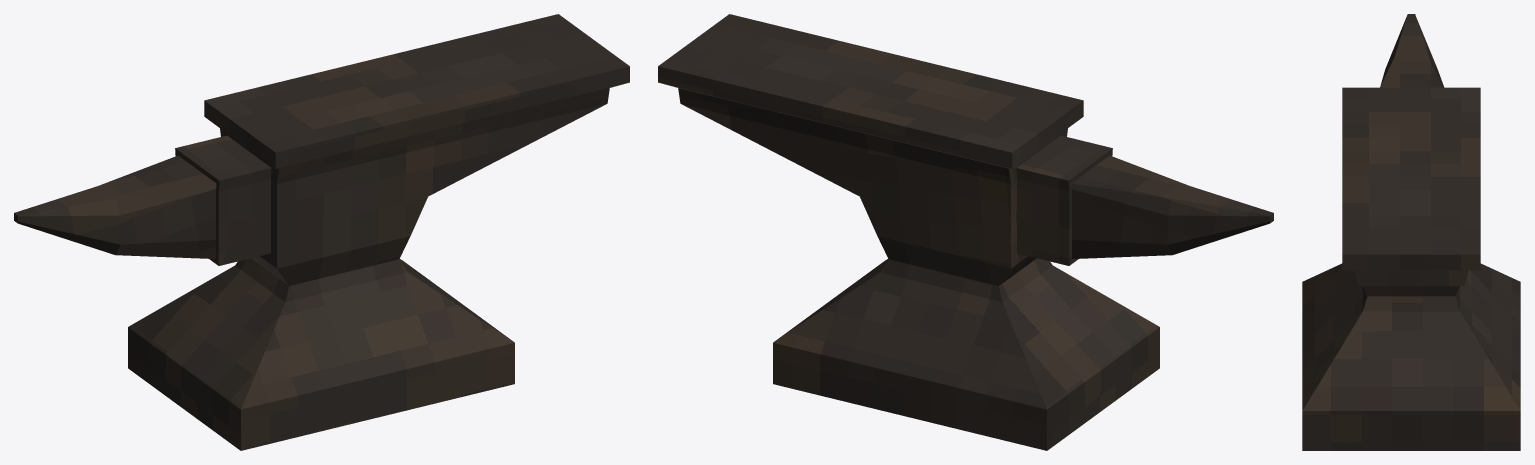
File: Anvil.fbx
The picture shows the model from 3 angles, left to right: view 1: azimuth 30°, elevation 25°; view 2: azimuth 150°, elevation 25°; view 3: azimuth 270°, elevation 25°; orthographic projection. The views are drawn at different scales.
Parts seen in each view (by area): view 1: Anvil; view 2: Anvil; view 3: Anvil.
Part boxes in pixels (left/top/right/bottom): Anvil: left=14, top=14, right=629, bottom=450; Anvil: left=658, top=14, right=1273, bottom=450; Anvil: left=1302, top=14, right=1520, bottom=450.
Bounding box in the file's own units: 98.43 × 43.83 × 33.29.
1 material, 1 textured.
